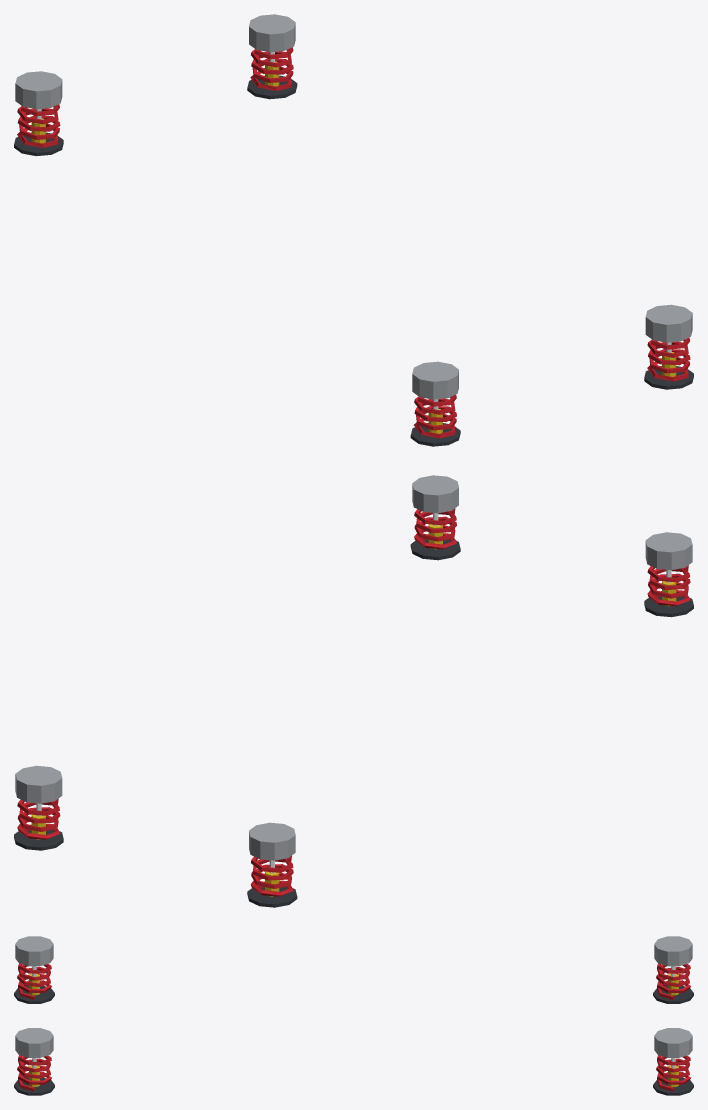
File: ridgeback_4x4_lift_kit_2in.glb
3 views of the same model, one above another, from view 1: azimuth 30°, elevation 25°; view 2: azimuth 150°, elevation 25°; view 3: azimuth 270°, elevation 25° (orthographic). The views are drawn at different scales.
Visible parts, largest first — view 1: model; view 2: model; view 3: model.
Boxes of the visible parts, bbox=[...] form: model: bbox=[14, 14, 693, 446]; model: bbox=[14, 475, 693, 907]; model: bbox=[14, 936, 693, 1095].
Bounding box in the file's own units: 1.06 × 0.2365 × 2.82.
Materials: 3 (1 with a texture image).
